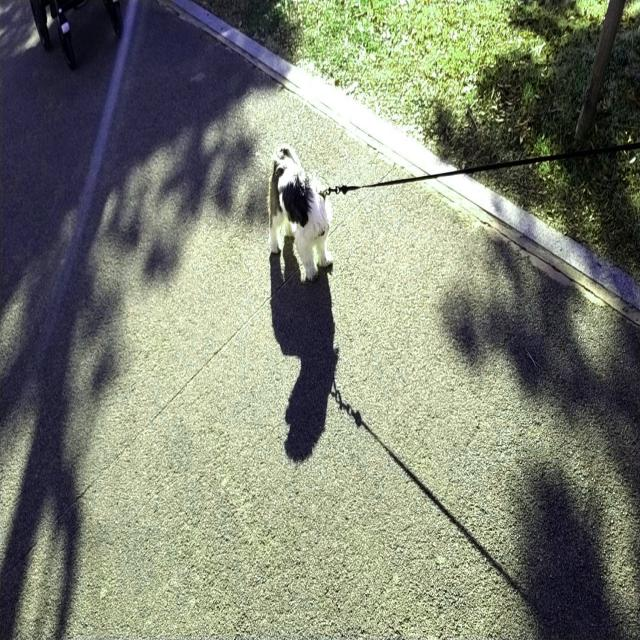Dog: (267, 144, 333, 284)
